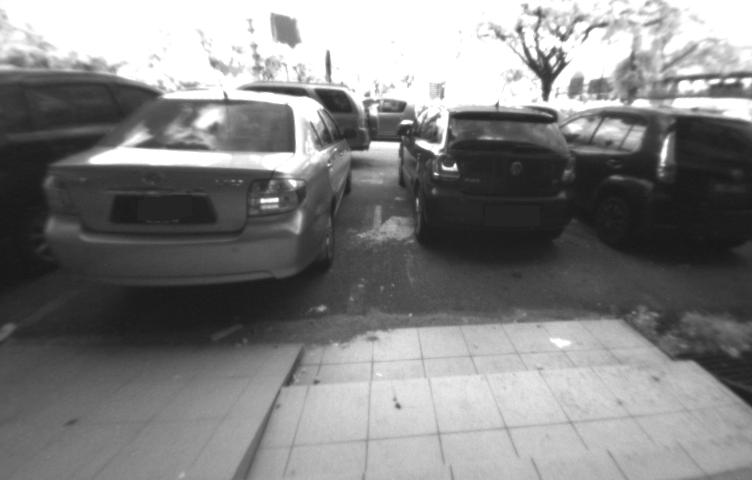down_steps: (260, 310, 743, 480)
mixed_gradient: (202, 334, 336, 480)
uncovered_drainage: (662, 333, 752, 418)
